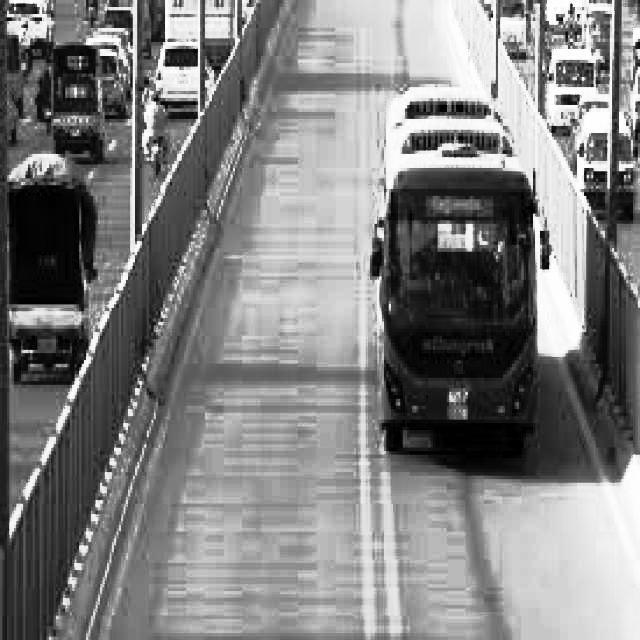Bus: (367, 98, 560, 464)
